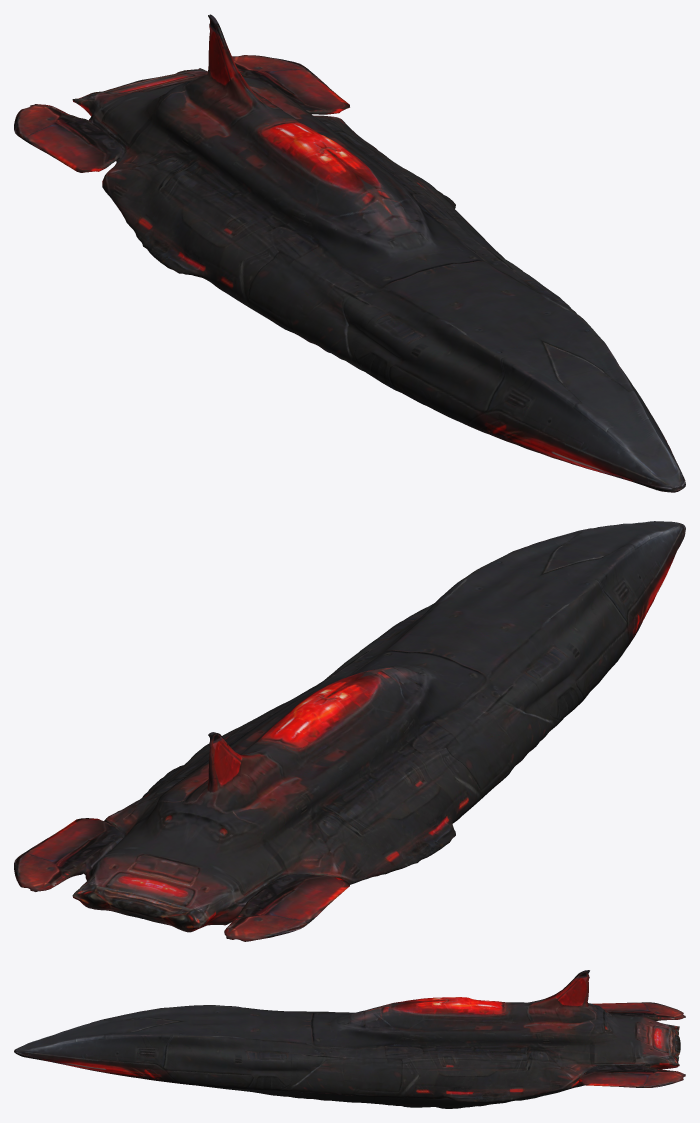
The model's file is Atlas_Strategic_Hauler.glb.
The picture shows the model from 3 angles, top to bottom: view 1: azimuth 30°, elevation 25°; view 2: azimuth 150°, elevation 25°; view 3: azimuth 270°, elevation 25°; orthographic projection. The views are drawn at different scales.
Visible parts, largest first — view 1: Mesh_0; view 2: Mesh_0; view 3: Mesh_0.
Part boxes in pixels (bbox=[...]): Mesh_0: bbox=[14, 14, 685, 492]; Mesh_0: bbox=[14, 521, 685, 941]; Mesh_0: bbox=[14, 970, 685, 1108].
Size of the model in its own units: 71.81 by 50 by 238.
1 material, 1 textured.
